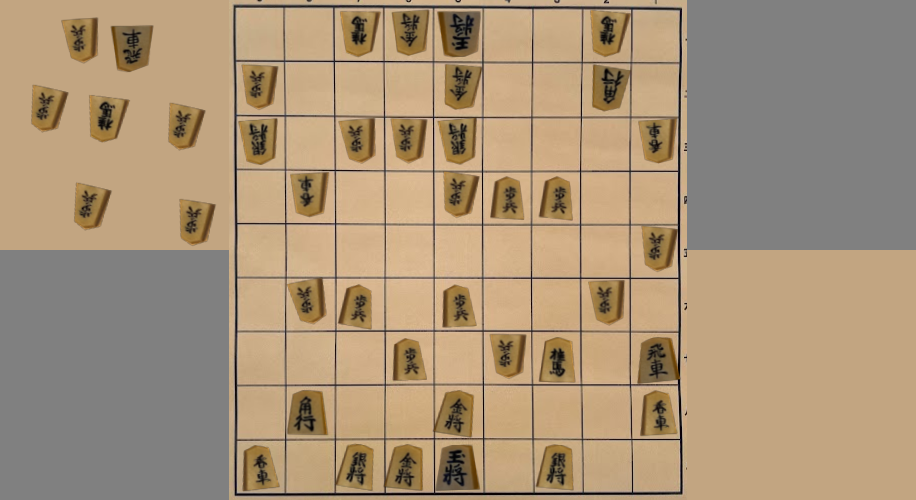A: (638, 337, 679, 383), (438, 446, 479, 491), (434, 391, 474, 437), (289, 391, 327, 435), (386, 445, 422, 490), (537, 446, 573, 490), (337, 445, 372, 490), (540, 338, 575, 382), (642, 392, 676, 436), (244, 447, 278, 490), (540, 177, 571, 220), (394, 340, 426, 381), (340, 286, 371, 328), (492, 178, 523, 220), (444, 286, 475, 326)
B: (439, 12, 479, 57), (341, 12, 378, 56), (240, 119, 276, 164), (593, 66, 629, 111), (592, 12, 628, 56), (440, 119, 475, 164), (289, 279, 324, 324), (445, 65, 480, 109), (639, 120, 674, 163), (394, 11, 428, 55), (291, 174, 326, 216), (589, 281, 623, 324), (392, 120, 426, 162), (340, 119, 373, 162), (243, 65, 276, 108), (445, 173, 478, 216), (491, 335, 524, 377), (643, 227, 675, 270)
D: (113, 27, 152, 71), (90, 96, 128, 141), (169, 104, 204, 149), (32, 86, 67, 131), (75, 184, 110, 229), (179, 200, 214, 244), (62, 18, 97, 62)
